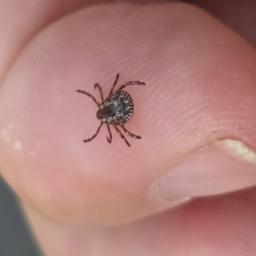Dermacentor variabilis: (76, 73, 147, 146)
